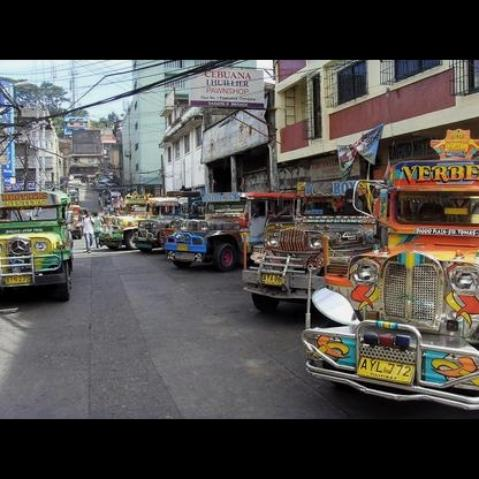jeepney: (315, 153, 479, 405), (258, 168, 384, 314), (0, 172, 73, 307), (176, 194, 271, 268)
